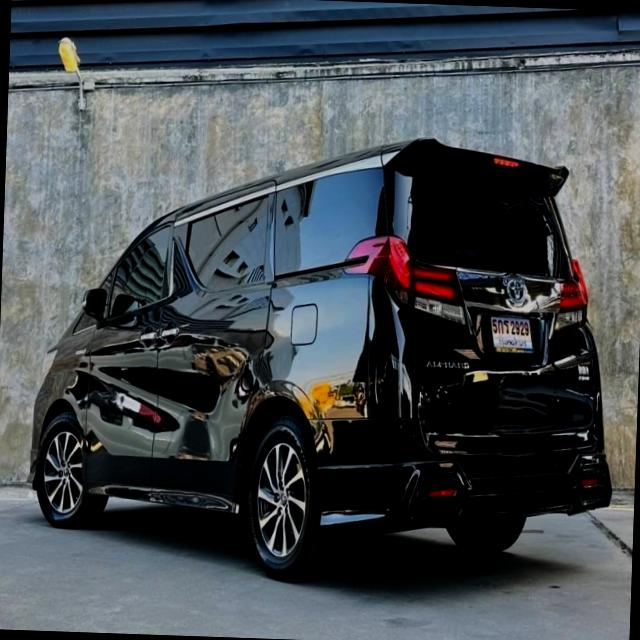license_plate: (488, 313, 536, 356)
